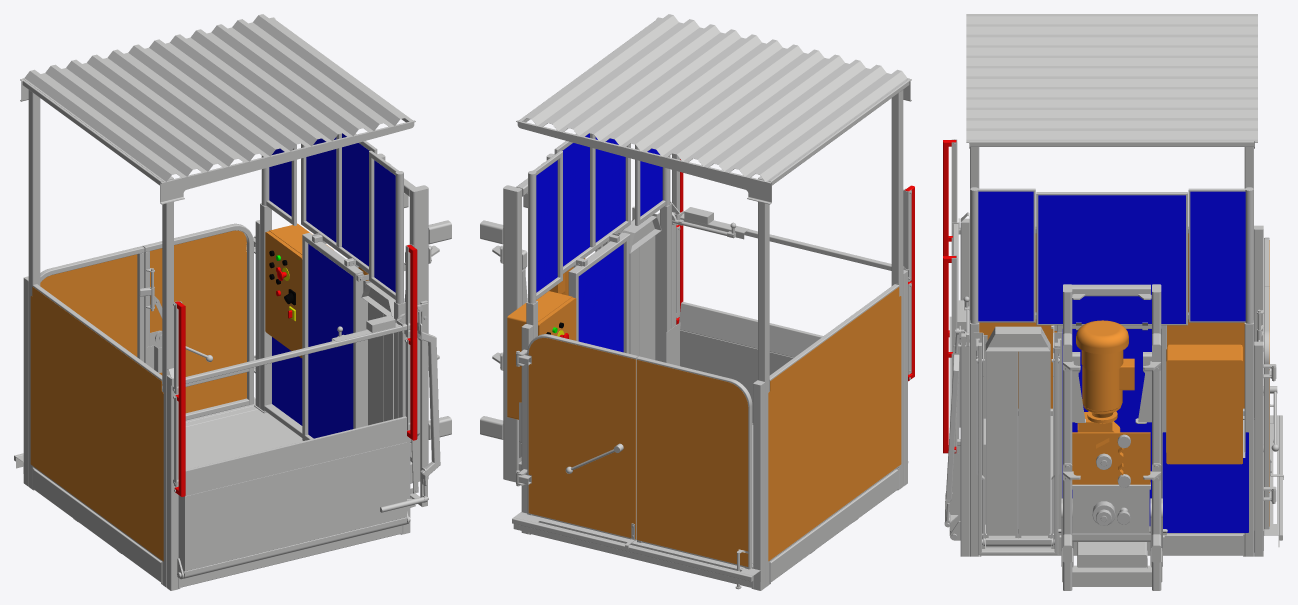
File: cage.glb
3 views of the same model, side by side, from view 1: azimuth 30°, elevation 25°; view 2: azimuth 150°, elevation 25°; view 3: azimuth 270°, elevation 25° (orthographic). The views are drawn at different scales.
Visible parts, largest first — view 1: 3DGeom-8, object 9, 3DGeom-6, object 15, 3DGeom-5, 3DGeom-10, 3DGeom-7, 3DGeom-9, object 11; view 2: object 9, 3DGeom-8, 3DGeom-6, object 15, 3DGeom-5, 3DGeom-10, 3DGeom-7, 3DGeom-9, object 11; view 3: 3DGeom-8, object 15, object 9, 3DGeom-5, 3DGeom-6, 3DGeom-9, 3DGeom-10, 3DGeom-7, object 11, 3DGeom-3.
Part boxes in pixels (x1,y1,x2,y2): 3DGeom-8: (20,14,428,507); object 9: (30,223,368,561); 3DGeom-6: (16,220,440,590); object 15: (269,133,395,438); 3DGeom-5: (32,153,451,588); 3DGeom-10: (28,155,405,587); 3DGeom-7: (14,222,259,485); 3DGeom-9: (266,133,427,506); object 11: (174,244,417,496); object 9: (507,258,901,566); 3DGeom-8: (516,14,911,548); 3DGeom-6: (513,153,911,587); object 15: (536,133,662,352); 3DGeom-5: (480,153,898,588); 3DGeom-10: (526,155,903,587); 3DGeom-7: (512,326,765,590); 3DGeom-9: (519,133,665,422); object 11: (559,159,914,381); 3DGeom-8: (966,14,1283,548); object 15: (978,191,1248,532); object 9: (979,233,1269,526); 3DGeom-5: (979,284,1263,590); 3DGeom-6: (945,139,1279,582); 3DGeom-9: (973,188,1245,554); 3DGeom-10: (970,187,1254,556); 3DGeom-7: (1254,225,1282,556); object 11: (943,140,956,453); 3DGeom-3: (944,296,1158,527).
Bounding box in the file's own units: 2.11 × 2.47 × 1.8.
